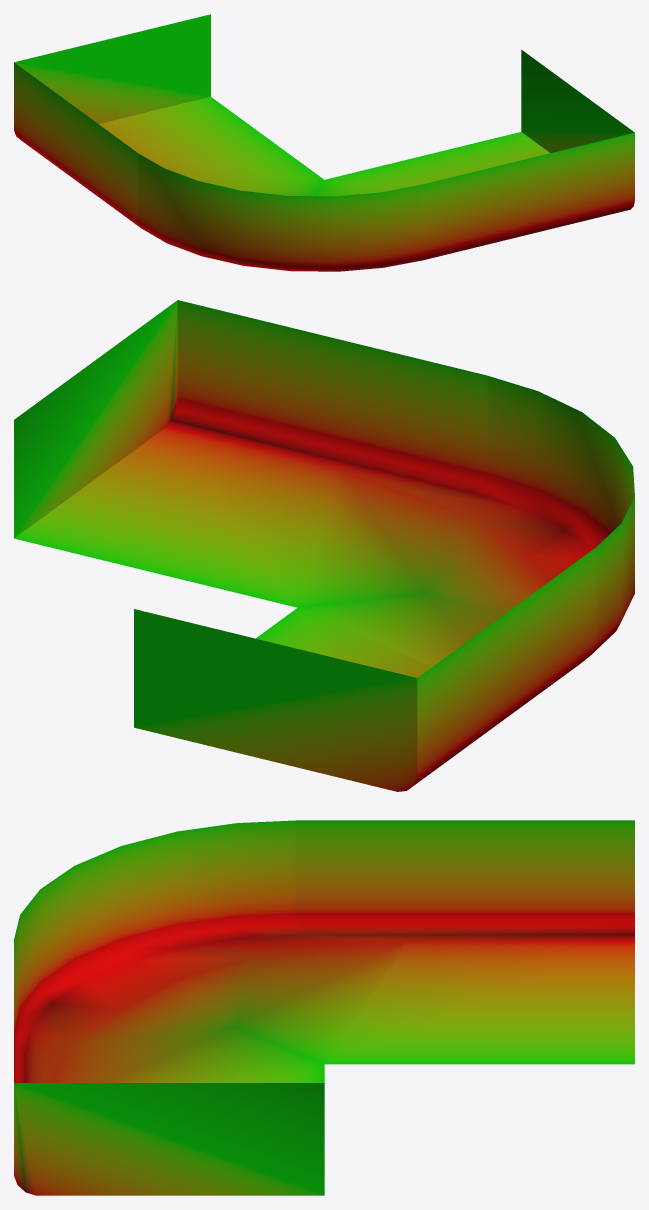
File: CeilingSupportOut90.fbx
3 renders of one model, top to bottom at view 1: azimuth 30°, elevation 25°; view 2: azimuth 150°, elevation 25°; view 3: azimuth 270°, elevation 25°, orthographic. The views are drawn at different scales.
Parts seen in each view (by area): view 1: CeilingSupportOut90; view 2: CeilingSupportOut90; view 3: CeilingSupportOut90.
Boxes of the visible parts, x1,y1,x2,y2 form: CeilingSupportOut90: (14,14,634,271); CeilingSupportOut90: (14,300,634,791); CeilingSupportOut90: (14,820,634,1195).
Size of the model in its own units: 200 by 40 by 200.
